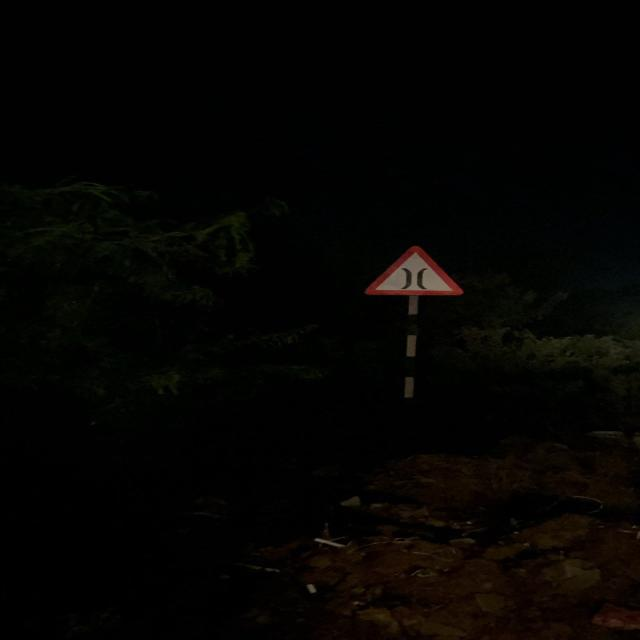Narrow_Bridge: (364, 244, 465, 296)
